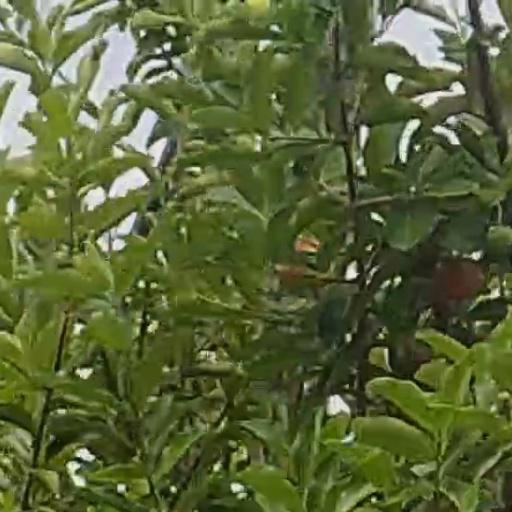acerola: (434, 259, 480, 297)
